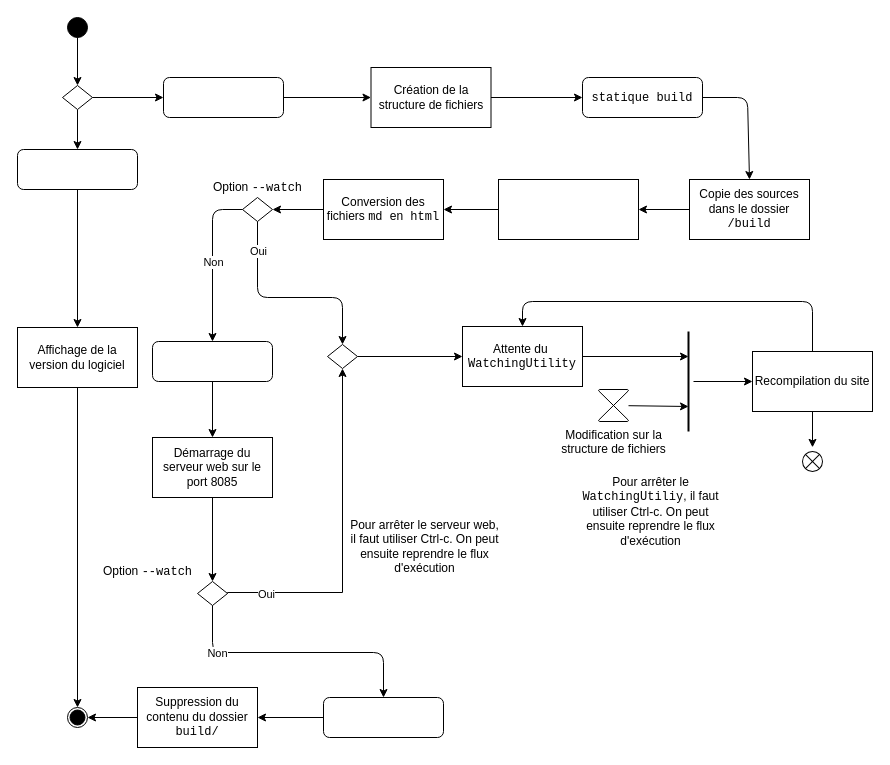
Some shapes in this 890 by 765 pixel diagram are drawn without their labels. The centre of each missing label's shape, as x and y in pixels:
Pour chaque fichier md, remplacement des variables de templating: [568,209]
statique -v: [77,169]
statique clean: [383,717]
statique init: [223,97]
statique serve: [212,361]
